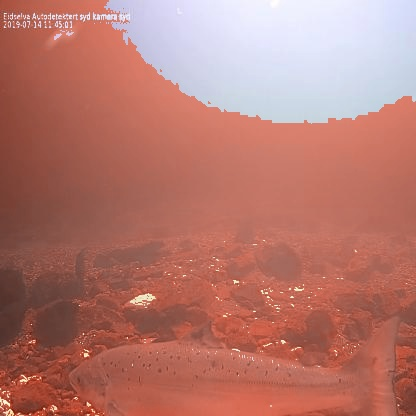salmon: (67, 314, 402, 416)
